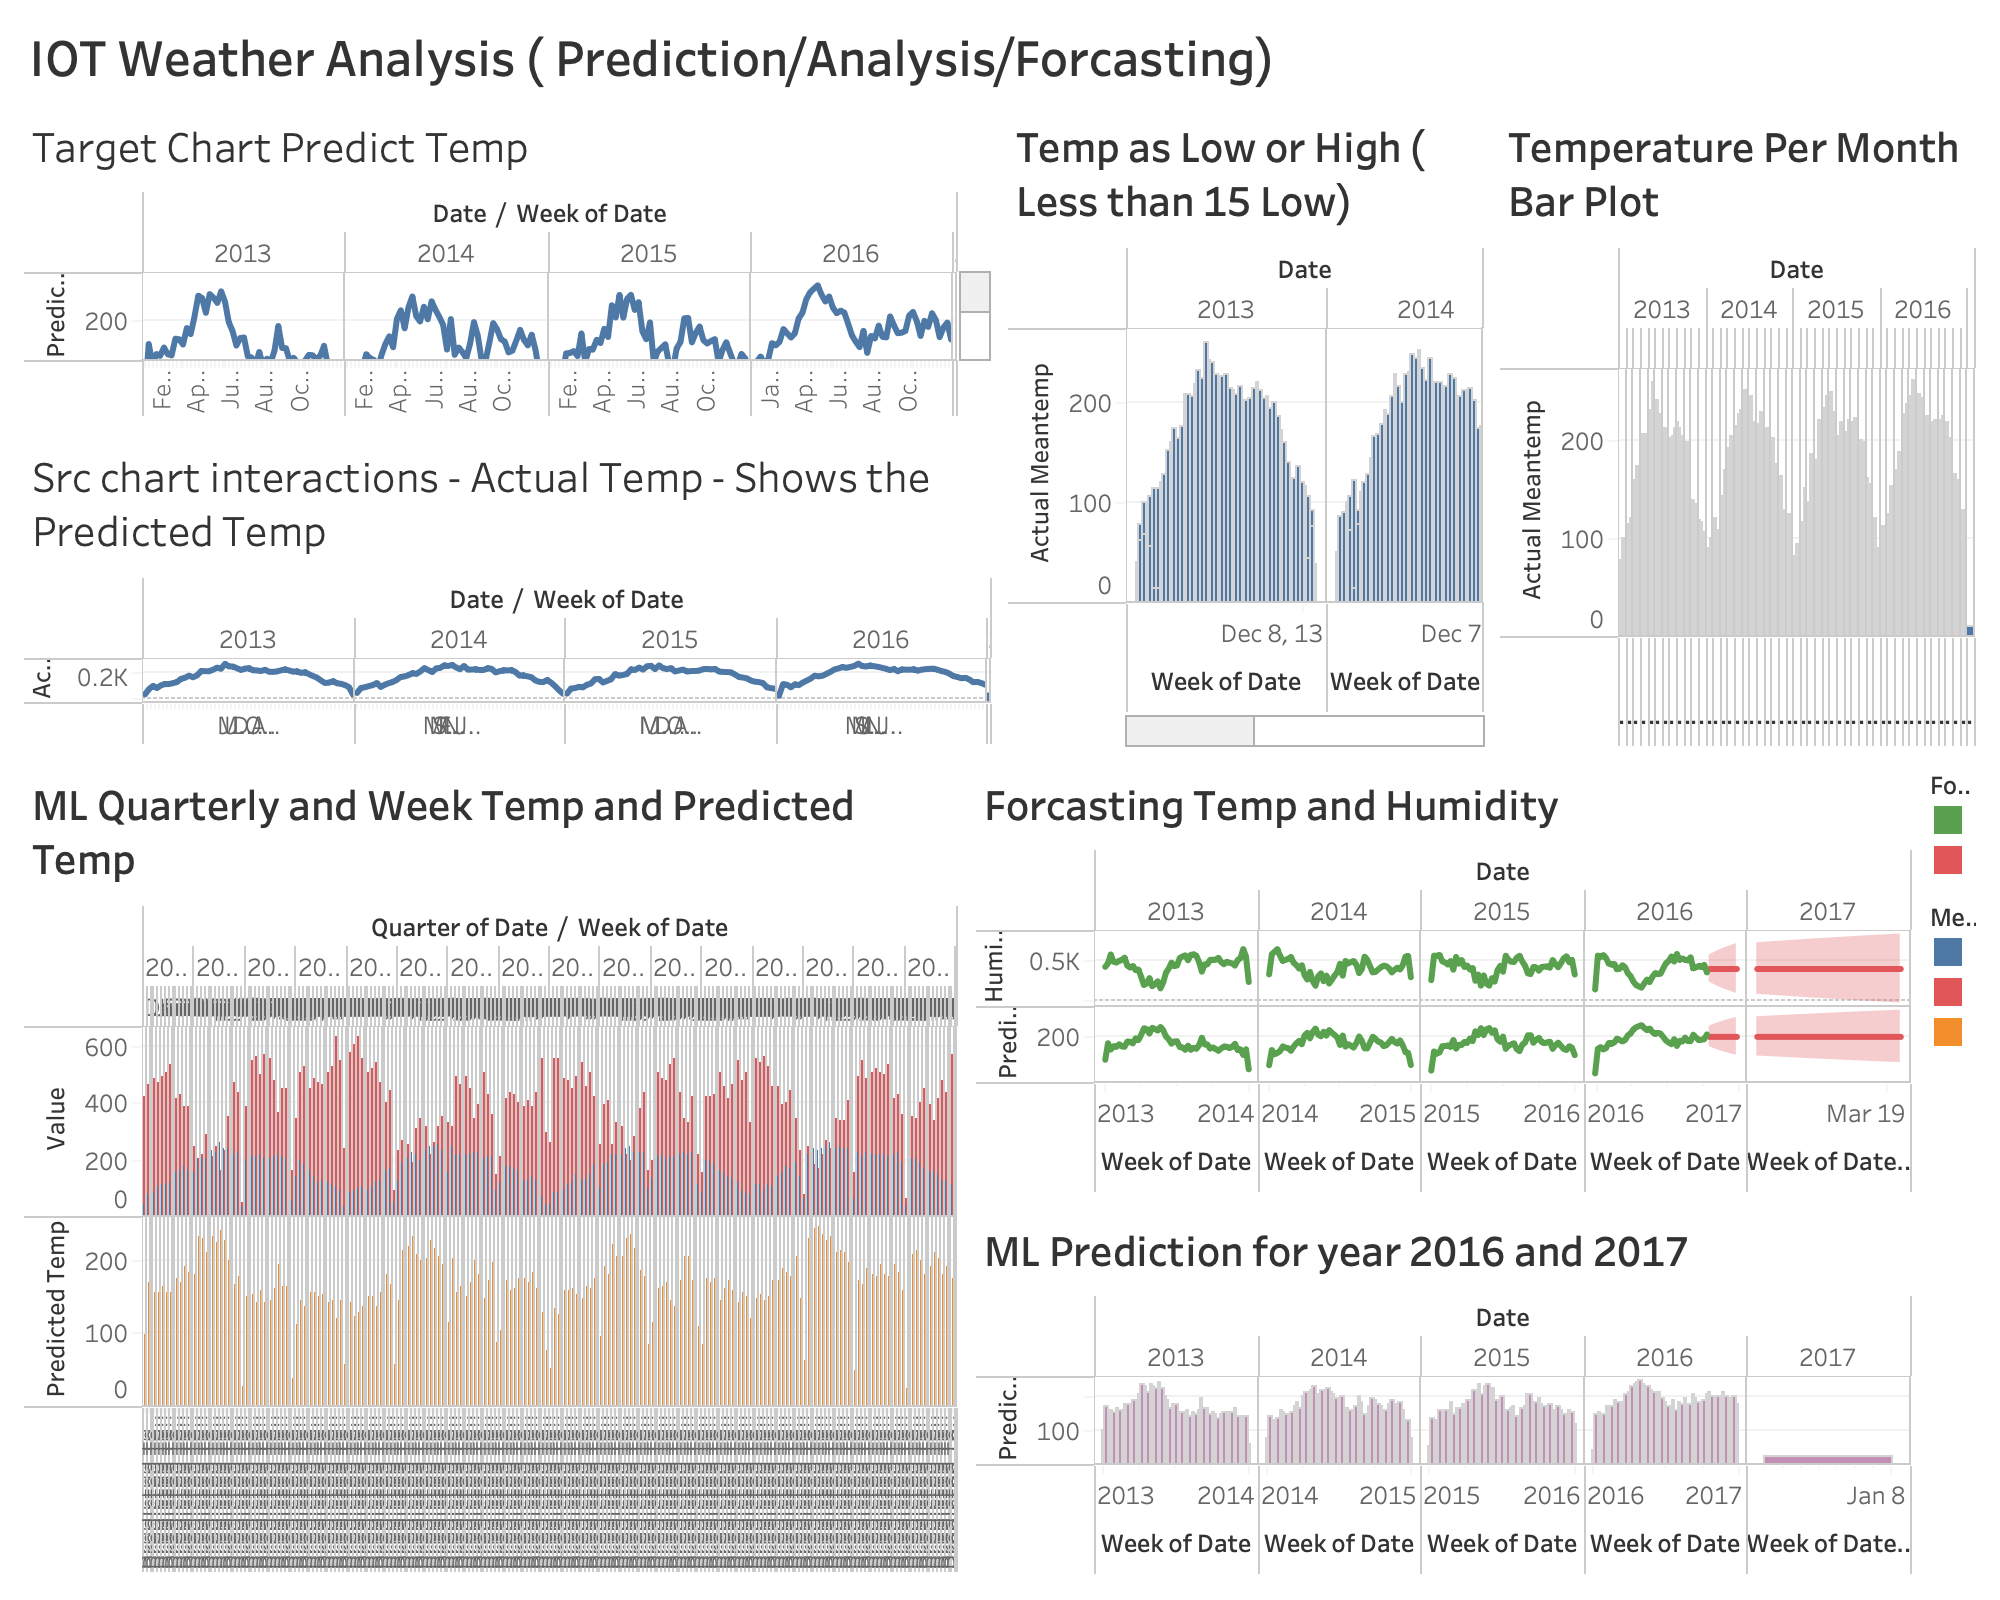

The dashboard page shown, as its layout file describes it:
{"tool":"tableau","page":{"name":"IOT Wather Analysis-Dashboard","canvas":[1000,800],"ordinal":0},"visuals":[{"type":"title","box":[8,8,984,41]},{"type":"worksheet","title":"target chart","mark":"Automatic","rows":["predictedTemp"],"cols":["date","date"],"box":[8,49,492,165.4]},{"type":"worksheet","title":"Temp as Low or High ","mark":"Bar","rows":["actual_meantemp"],"cols":["date","date"],"box":[500,49,246,328.8]},{"type":"worksheet","title":"Temperature Per Month Bar Plot","mark":"Bar","rows":["actual_meantemp"],"cols":["date","date","date"],"box":[746,49,246,328.8]},{"type":"worksheet","title":"src chart","mark":"Automatic","rows":["actual_meantemp"],"cols":["date","date"],"box":[8,214.4,492,163.5]},{"type":"worksheet","title":"Quarterly and Week Temp and Predicted Temp","mark":"Bar","rows":["predictedTemp"],"cols":["date","date"],"box":[8,377.8,476,414.2]},{"type":"worksheet","title":"Forcasting Temp and Humidity","mark":"Automatic","rows":["humidity","predictedTemp"],"cols":["date","date"],"box":[484,377.8,476,222.9]},{"type":"legend","title":"Forcasting Temp and Humidity","param":"[federated.0nfkmkg0xai16u1bpujpp022r89y].[none:Forecast Indicator:nk]","box":[960,377.8,32,66]},{"type":"legend","title":"Quarterly and Week Temp and Predicted Temp","param":"[federated.0nfkmkg0xai16u1bpujpp022r89y].[:Measure Names]","box":[960,443.8,32,86]},{"type":"worksheet","title":"prediction for year 2016 and 2017","mark":"Bar","rows":["predictedTemp"],"cols":["date","date"],"box":[484,600.8,476,191.2]}]}

Visuals, with their boxes in screenshot pixels (x1, y1, x2, y2), scaled from the page's 1000x800 canvas onto the 2000x1600 screenshot:
title: x1=16 y1=16 x2=1984 y2=98
"target chart" worksheet: x1=16 y1=98 x2=1000 y2=429
"Temp as Low or High " worksheet (Bar marks): x1=1000 y1=98 x2=1492 y2=756
"Temperature Per Month Bar Plot" worksheet (Bar marks): x1=1492 y1=98 x2=1984 y2=756
"src chart" worksheet: x1=16 y1=429 x2=1000 y2=756
"Quarterly and Week Temp and Predicted Temp" worksheet (Bar marks): x1=16 y1=756 x2=968 y2=1584
"Forcasting Temp and Humidity" worksheet: x1=968 y1=756 x2=1920 y2=1201
"Forcasting Temp and Humidity" legend: x1=1920 y1=756 x2=1984 y2=888
"Quarterly and Week Temp and Predicted Temp" legend: x1=1920 y1=888 x2=1984 y2=1060
"prediction for year 2016 and 2017" worksheet (Bar marks): x1=968 y1=1202 x2=1920 y2=1584
